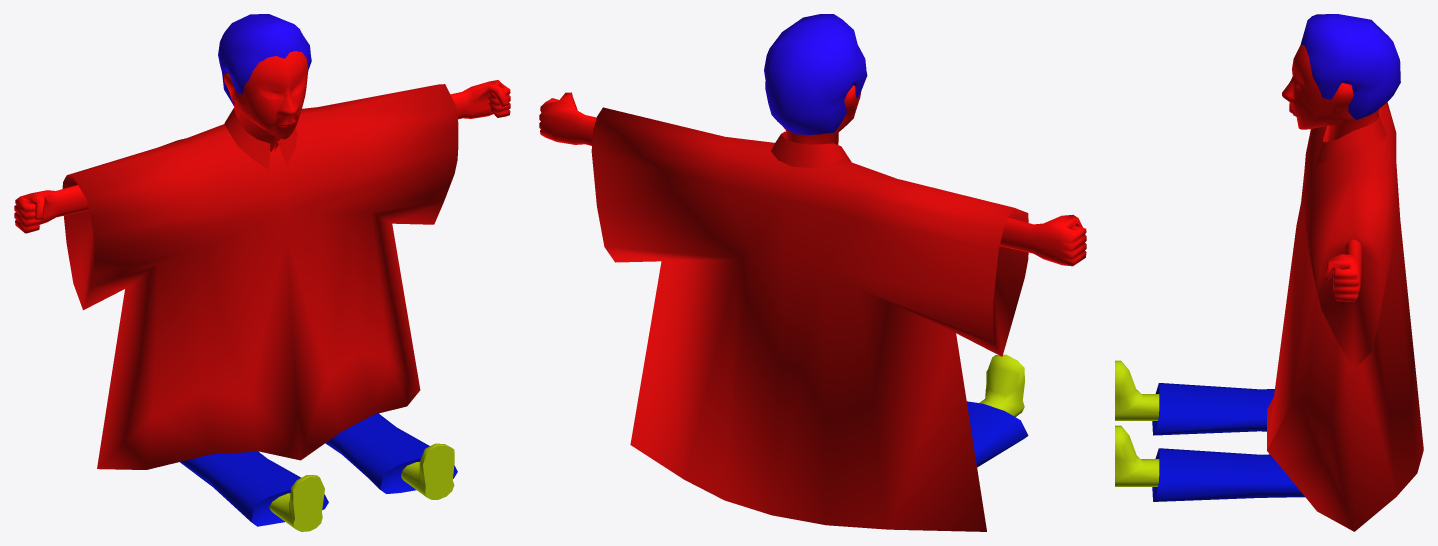
The model's file is glove_puppet.FBX.
The picture shows the model from 3 angles, left to right: view 1: azimuth 30°, elevation 25°; view 2: azimuth 150°, elevation 25°; view 3: azimuth 270°, elevation 25°; orthographic projection. The views are drawn at different scales.
Visible parts, largest first — view 1: puppet_cloth, puppet_body; view 2: puppet_cloth, puppet_body; view 3: puppet_cloth, puppet_body.
Boxes of the visible parts, x1,y1,x2,y2 form: puppet_cloth: [62, 84, 458, 531]; puppet_body: [14, 14, 510, 233]; puppet_cloth: [591, 107, 1028, 531]; puppet_body: [539, 14, 1086, 266]; puppet_cloth: [1115, 102, 1423, 531]; puppet_body: [1282, 14, 1400, 301].
Size of the model in its own units: 2.41 by 1.28 by 1.99.
